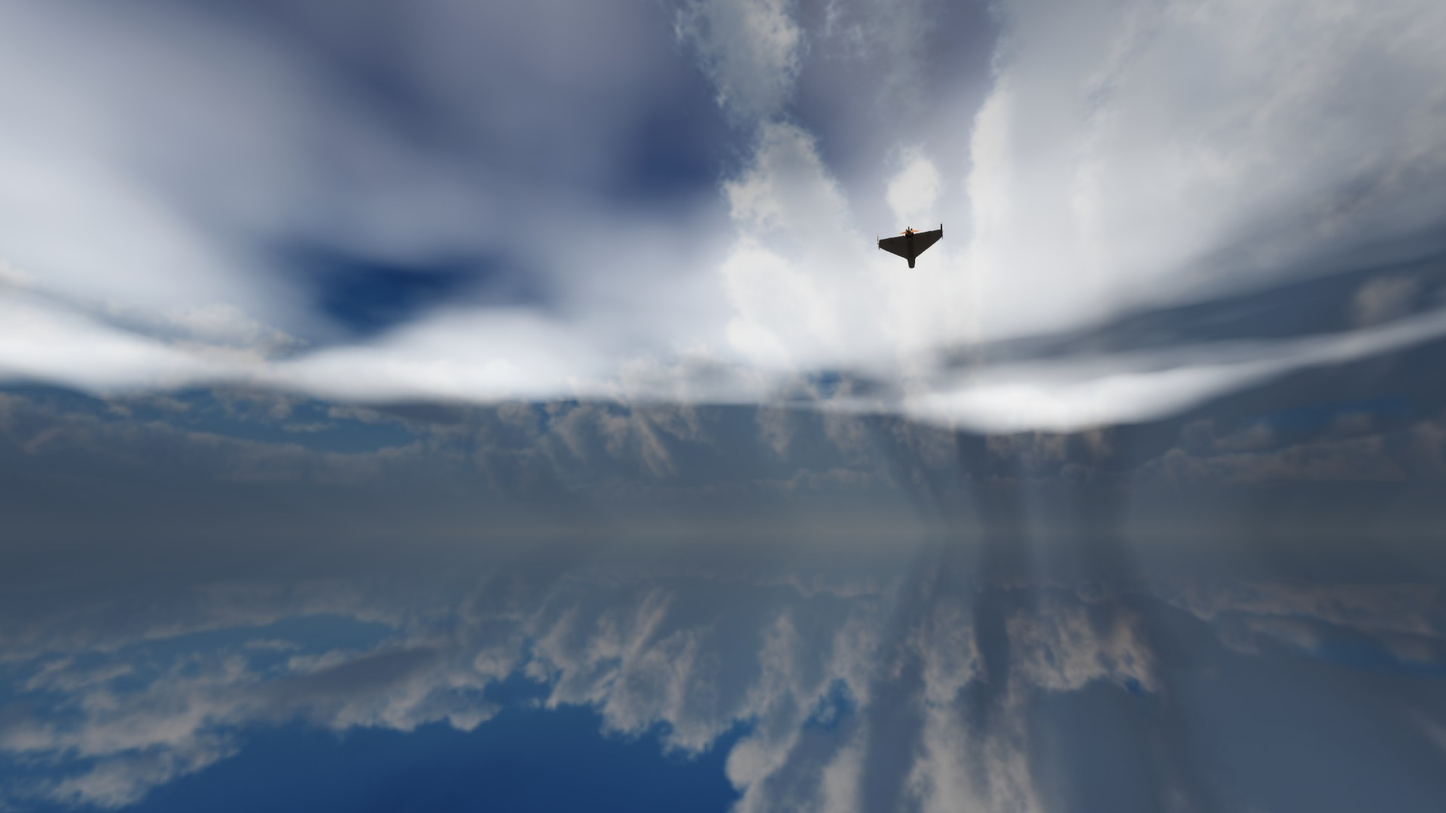shahed: (877, 221, 943, 269)
